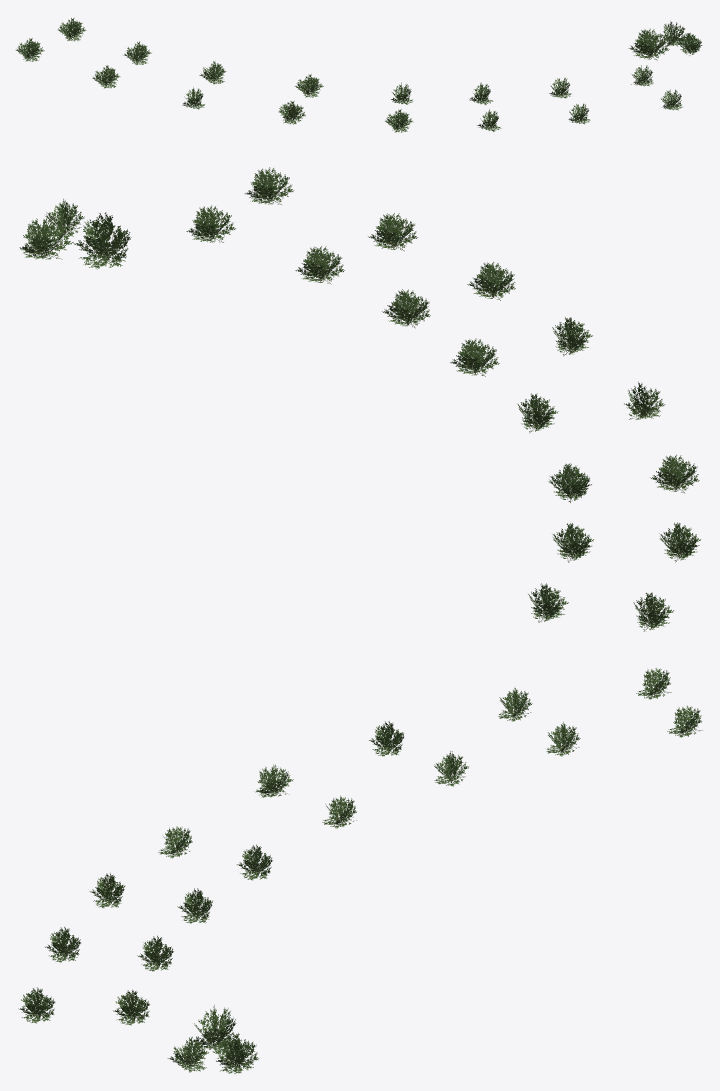
File: Plants_Entrance_Left_COMBO.fbx
3 renders of one model, top to bottom at view 1: azimuth 30°, elevation 25°; view 2: azimuth 150°, elevation 25°; view 3: azimuth 270°, elevation 25°, orthographic. The views are drawn at different scales.
Parts seen in each view (by area): view 1: Sun_0016_Low_level_shrub; view 2: Sun_0016_Low_level_shrub; view 3: Sun_0016_Low_level_shrub.
Part boxes in pixels (left/top/right/bottom): Sun_0016_Low_level_shrub: left=16, top=18, right=702, bottom=132; Sun_0016_Low_level_shrub: left=19, top=167, right=700, bottom=631; Sun_0016_Low_level_shrub: left=18, top=668, right=702, bottom=1073.
Size of the model in its own units: 47.1 by 2.94 by 35.58.
